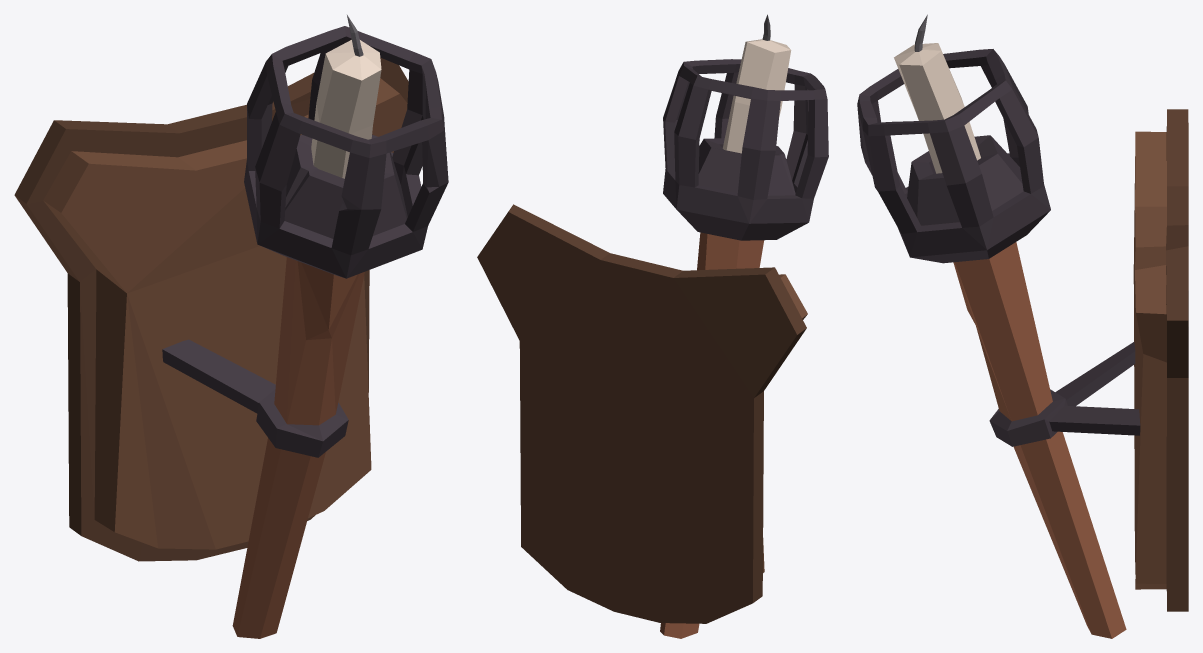
The model's file is WallTorch.fbx.
3 renders of one model, left to right at view 1: azimuth 30°, elevation 25°; view 2: azimuth 150°, elevation 25°; view 3: azimuth 270°, elevation 25°, orthographic. The views are drawn at different scales.
Visible parts, largest first — view 1: Wall Torch; view 2: Wall Torch; view 3: Wall Torch.
Part boxes in pixels (x1=…): Wall Torch: x1=14, y1=15, x2=448, y2=638; Wall Torch: x1=477, y1=14, x2=828, y2=638; Wall Torch: x1=857, y1=14, x2=1188, y2=638.
Size of the model in its own units: 0.4219 by 0.7056 by 0.346.
